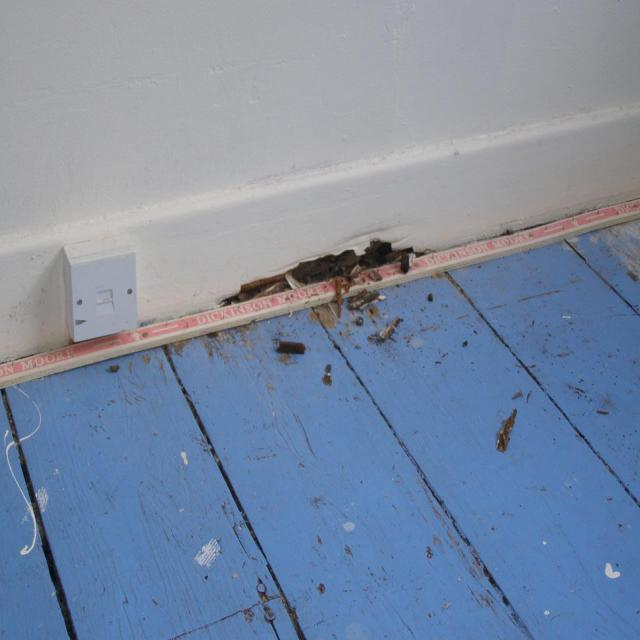rotten_timber: (0, 14, 640, 388)
